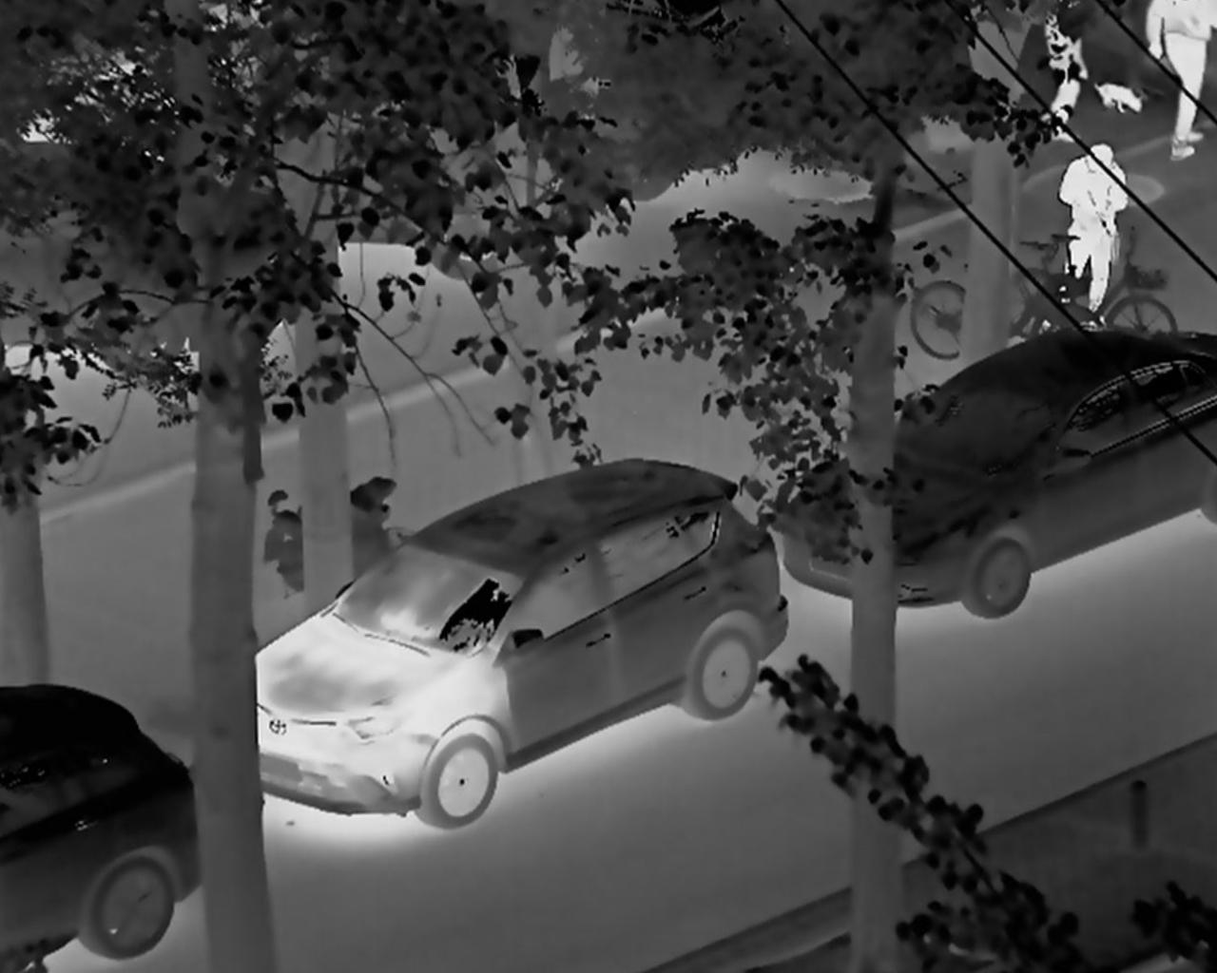person: (1051, 140, 1134, 328)
